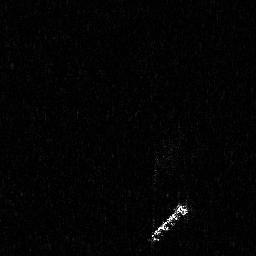ship: (147, 200, 191, 244)
